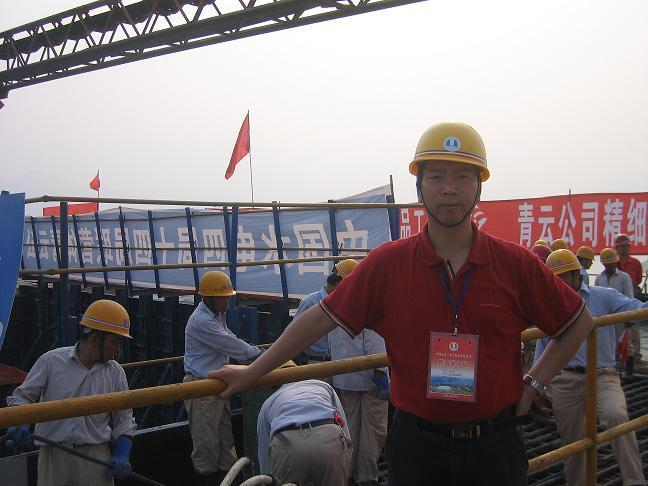helmet: (405, 120, 495, 177), (85, 295, 138, 336), (197, 270, 241, 299), (546, 251, 579, 276), (335, 260, 360, 280), (614, 230, 635, 248), (601, 247, 620, 265), (576, 243, 594, 262), (555, 238, 569, 252)
